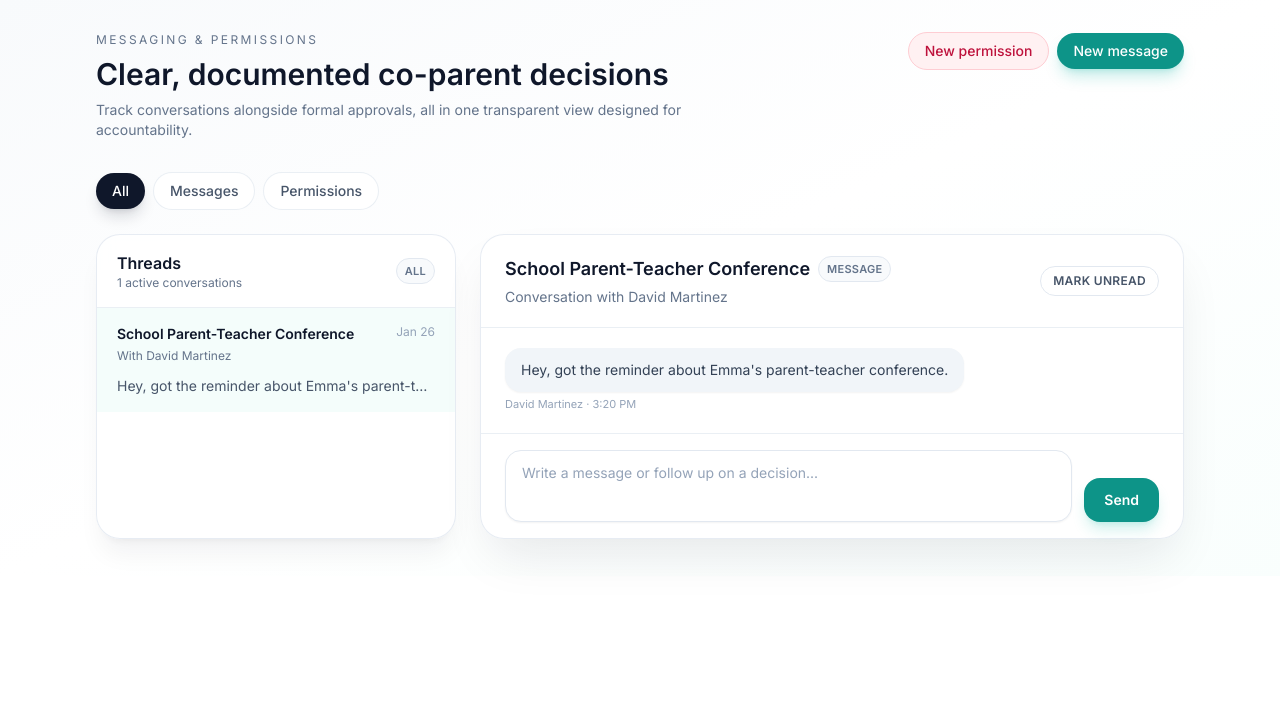
Test: MessagingAndPermissions › filters conversations and shows empty states
This screenshot has width=1280, height=720.
Click the button "Permissions" at (321, 191), box [264,172,379,210]
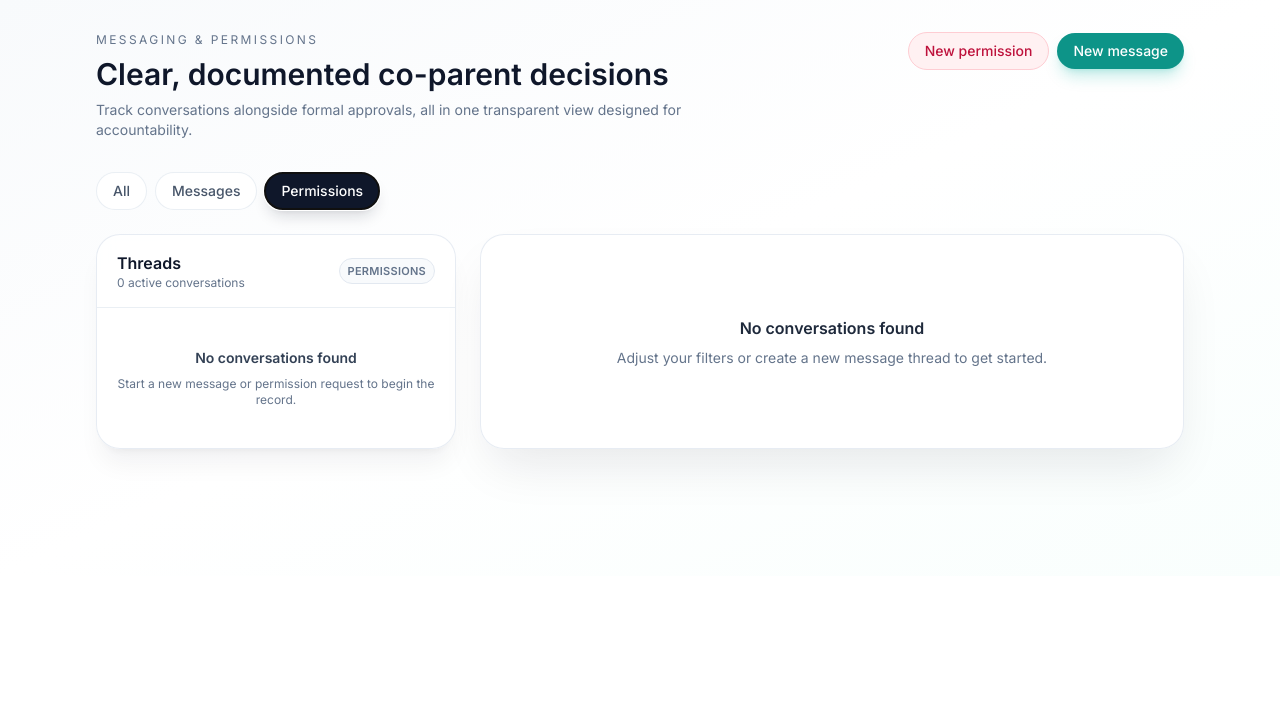
Now the text "No conversations found" below "active conversations" is shown, box [195,349,357,366]
